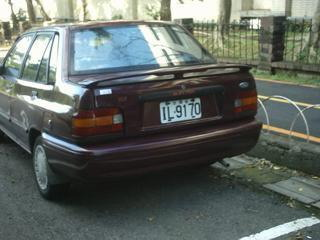plate: (158, 99, 203, 123)
